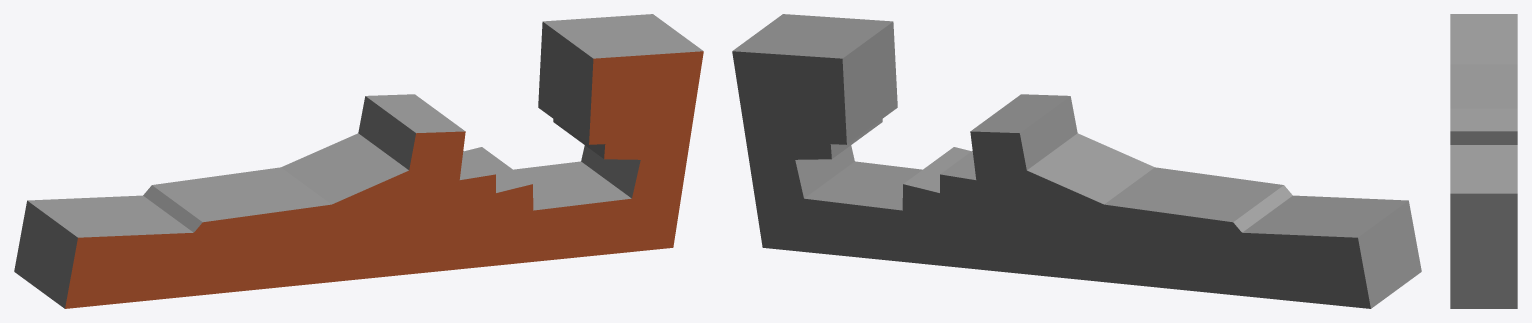
File: construction_5855_assumed_A_Casa_h6m.obj
3 views of the same model, side by side, from view 1: azimuth 30°, elevation 25°; view 2: azimuth 150°, elevation 25°; view 3: azimuth 270°, elevation 25° (orthographic). The views are drawn at different scales.
Visible parts, largest first — view 1: construction_5855_assumed_A_Casa; view 2: construction_5855_assumed_A_Casa; view 3: construction_5855_assumed_A_Casa.
Boxes of the visible parts, x1,y1,x2,y2 form: construction_5855_assumed_A_Casa: (14,14,703,308); construction_5855_assumed_A_Casa: (732,14,1421,308); construction_5855_assumed_A_Casa: (1450,14,1517,308).
Bounding box in the file's own units: 43.49 × 13.57 × 6.
